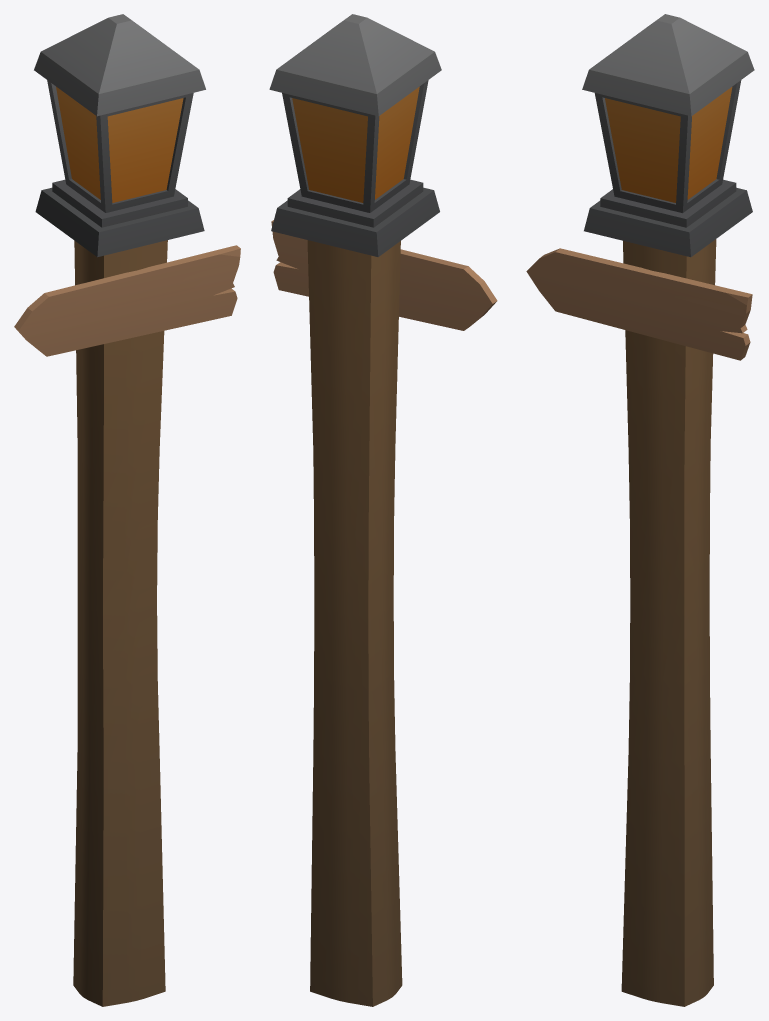
File: Lantern_04.fbx
The picture shows the model from 3 angles, left to right: view 1: azimuth 30°, elevation 25°; view 2: azimuth 150°, elevation 25°; view 3: azimuth 330°, elevation 25°; orthographic projection.
Parts seen in each view (by area): view 1: Lantern_04_LOD0; view 2: Lantern_04_LOD0; view 3: Lantern_04_LOD0.
Part boxes in pixels (x1=…): Lantern_04_LOD0: x1=14, y1=14, x2=240, y2=1006; Lantern_04_LOD0: x1=269, y1=14, x2=497, y2=1006; Lantern_04_LOD0: x1=526, y1=14, x2=754, y2=1006.
Size of what is drawn, in the model's own units: 0.5089 by 2.12 by 0.2506.
